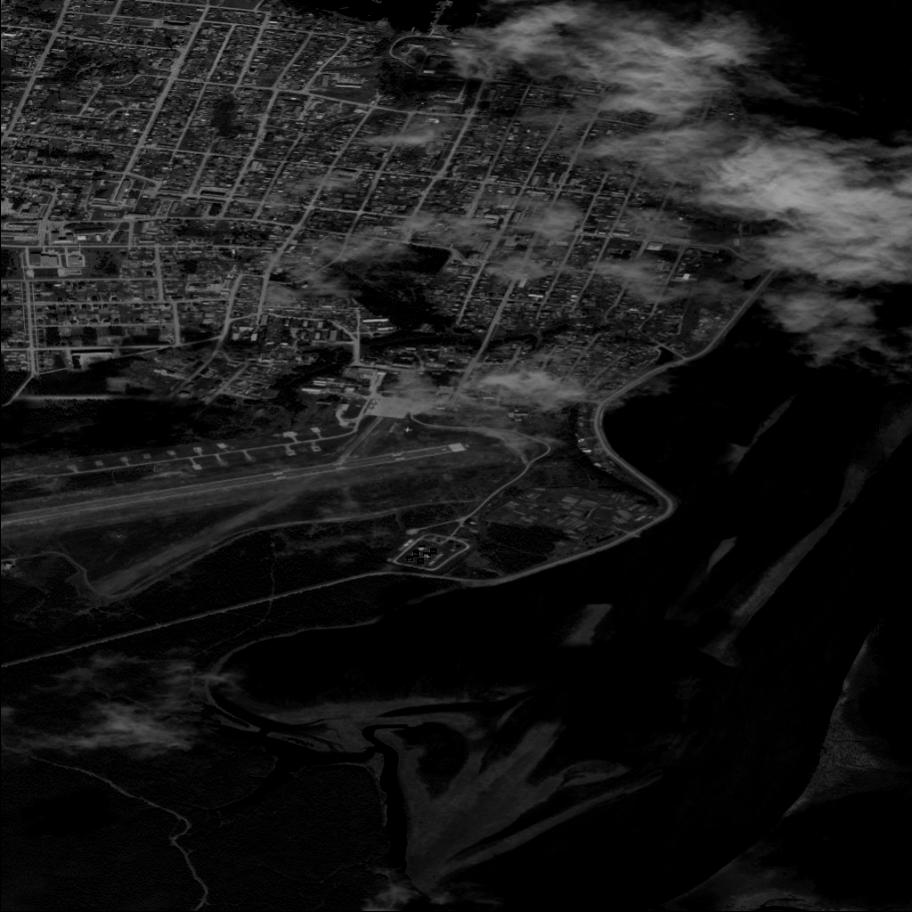storage-tank: (423, 553, 432, 561), (413, 550, 420, 557), (430, 548, 438, 554), (417, 559, 424, 565), (419, 545, 425, 551), (406, 556, 413, 561)
